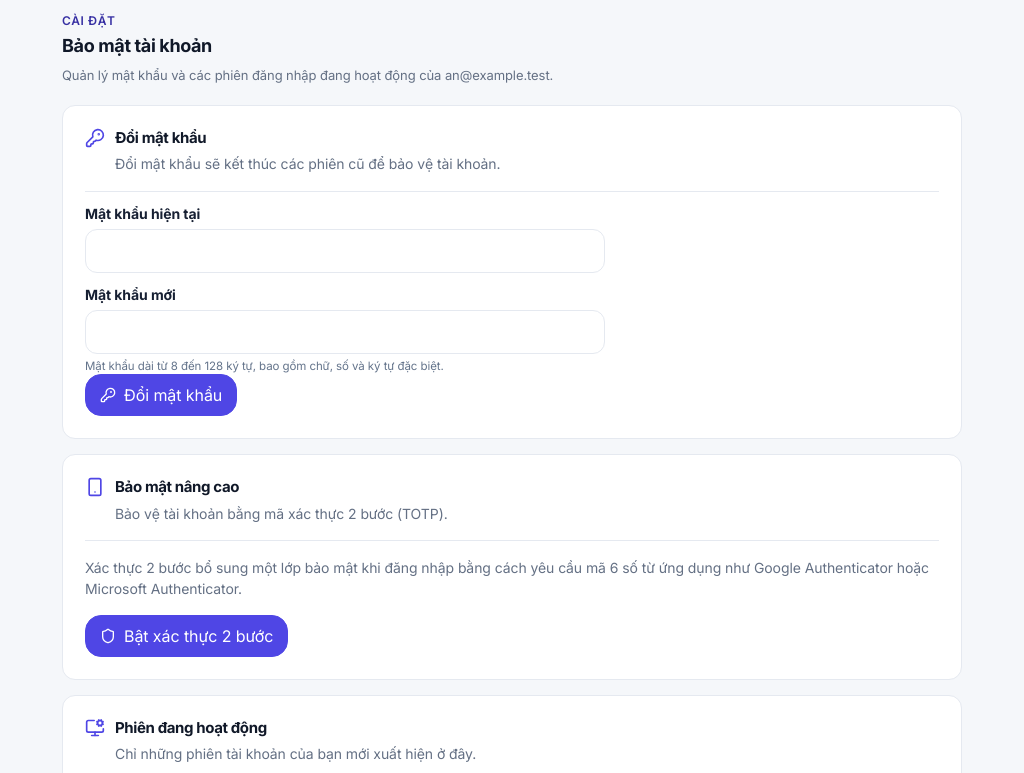
Test: SettingsPage password policy › submits valid passwords satisfying the canonical policy
Expected: the heading "Bảo mật tài khoản" is shown, 62,35 -> 212,56
In the password field labelled "Mật khẩu hiện tại": (345, 251) 85,229 -> 605,273, type "CurrentPass123!"
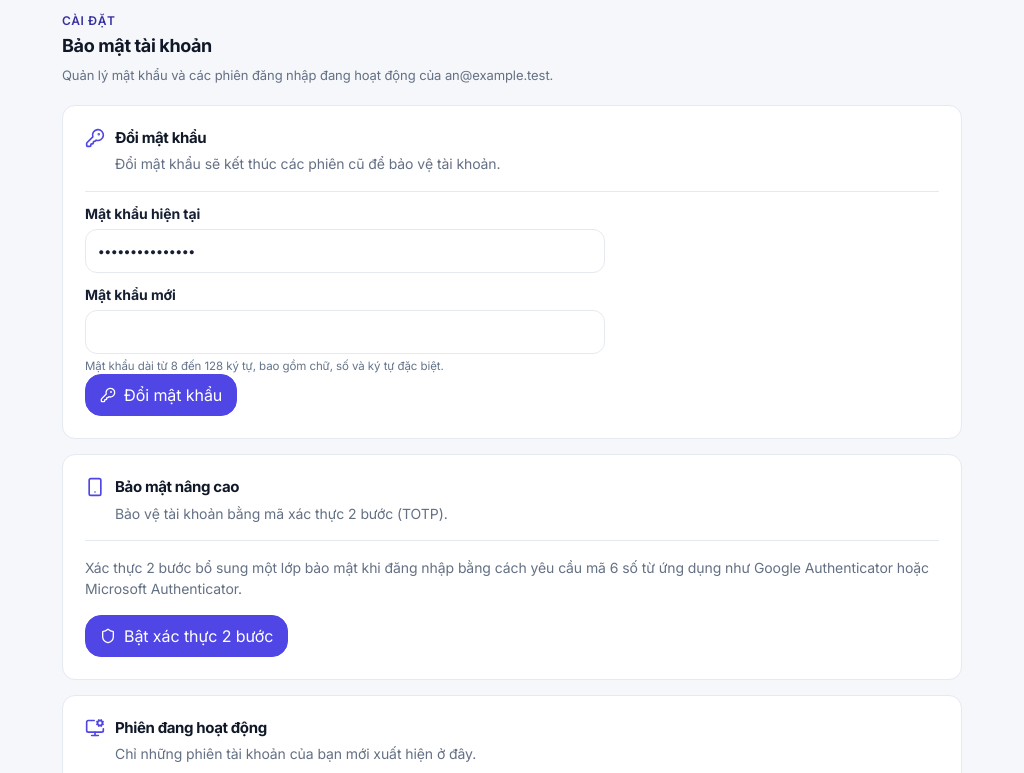
In the password field labelled "Mật khẩu mới": (345, 332) 85,310 -> 605,354, type "ValidNewPass456#"
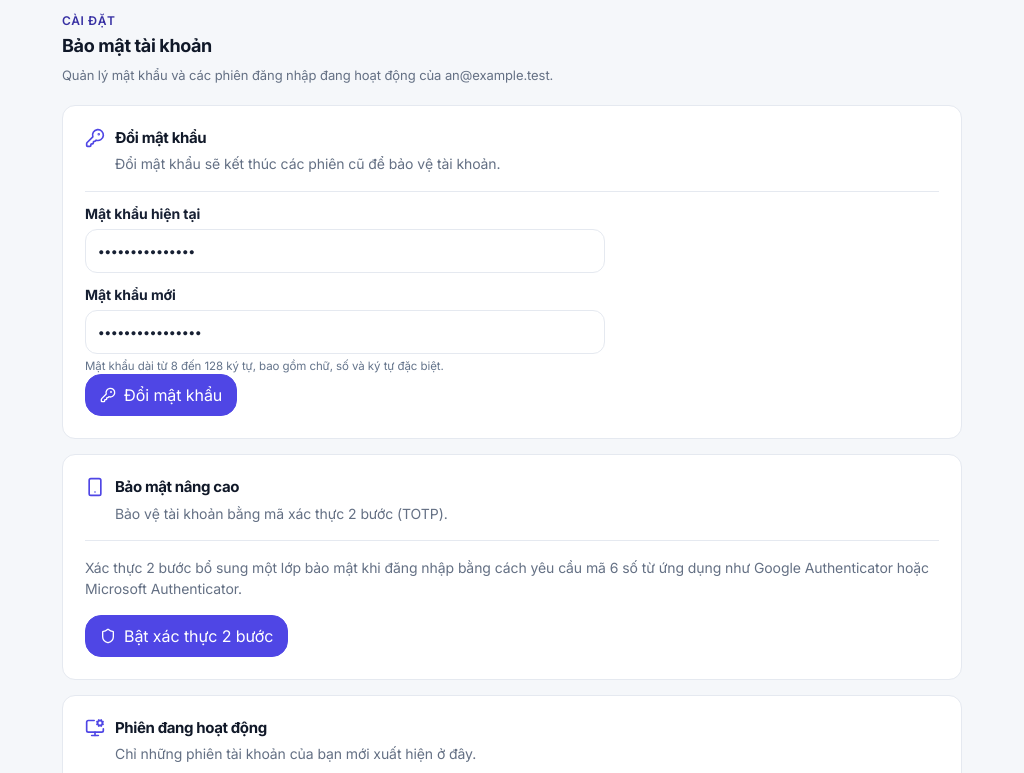
Submit the form named "Đổi mật khẩu", box 85,204 -> 605,416
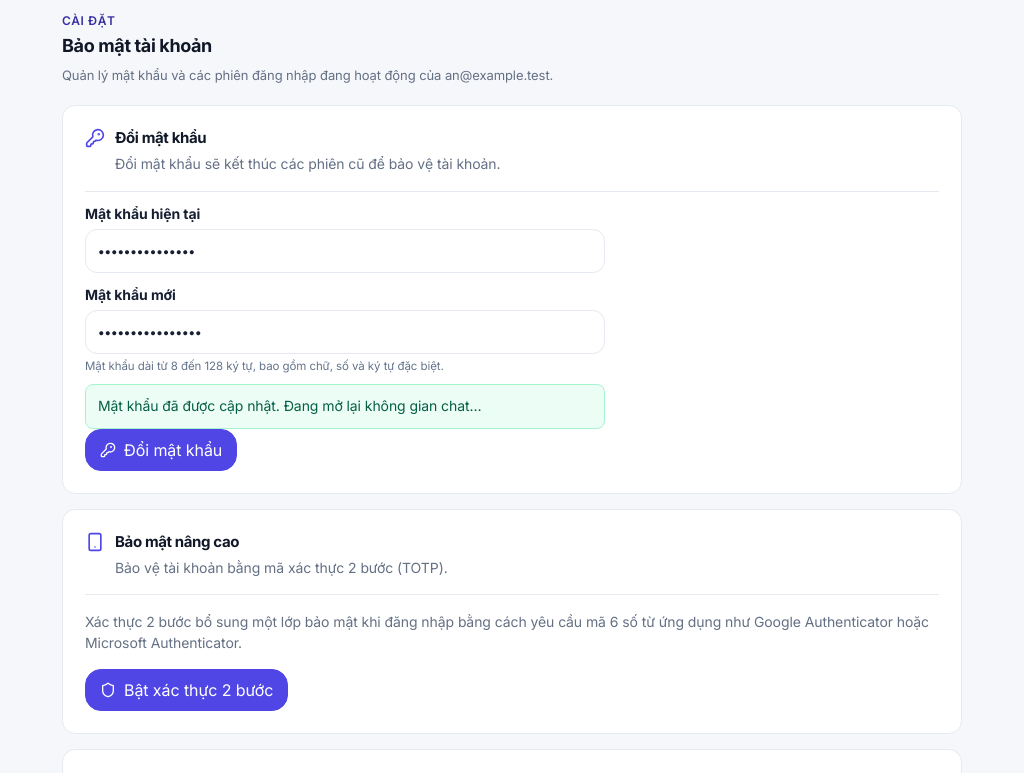
Expected: the message shows "Đang mở lại không gian chat", 98,397 -> 482,414
